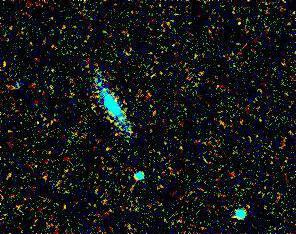star: (95, 136, 125, 166)
